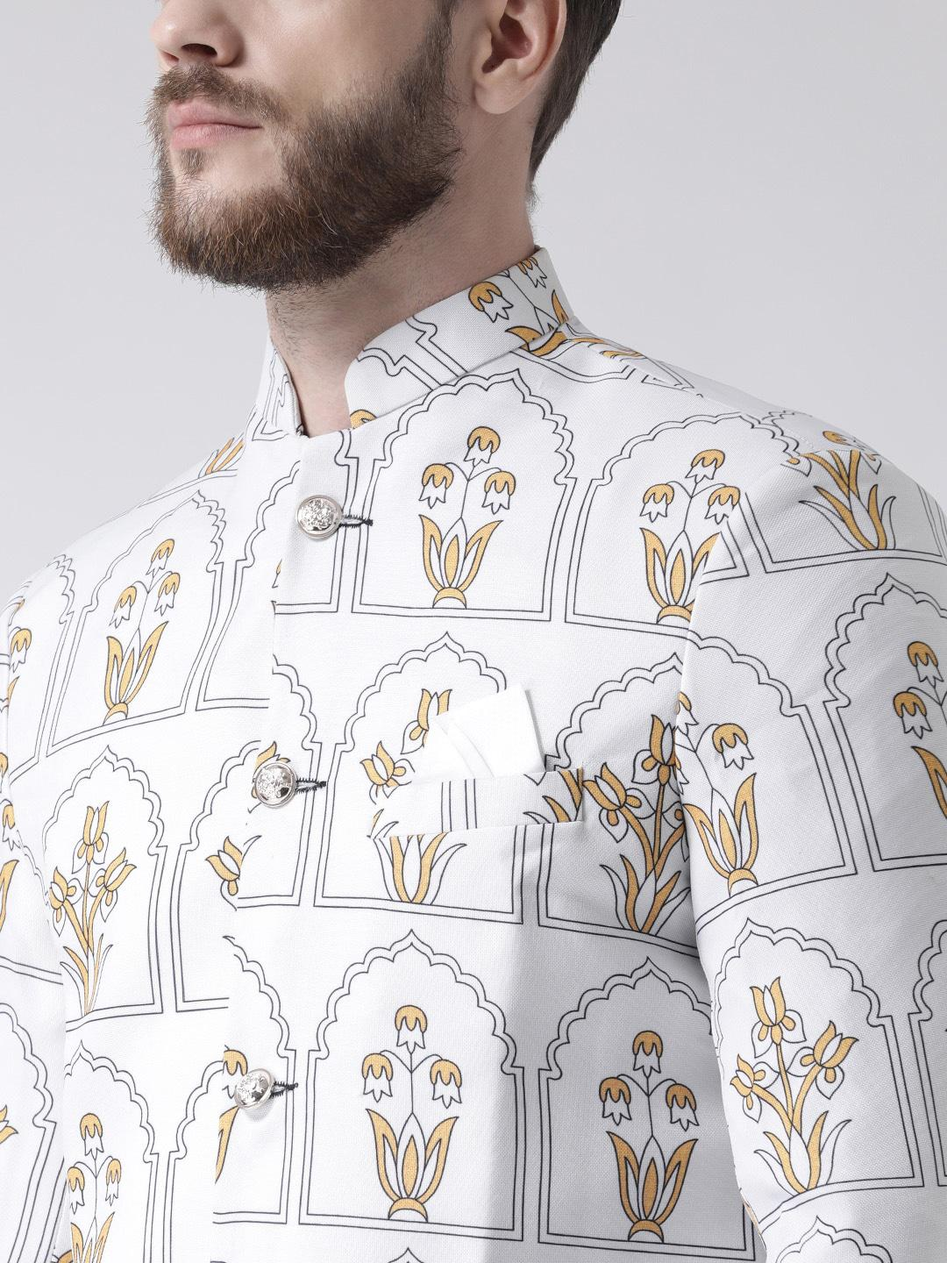Design Sherwani: (5, 243, 945, 1261)
